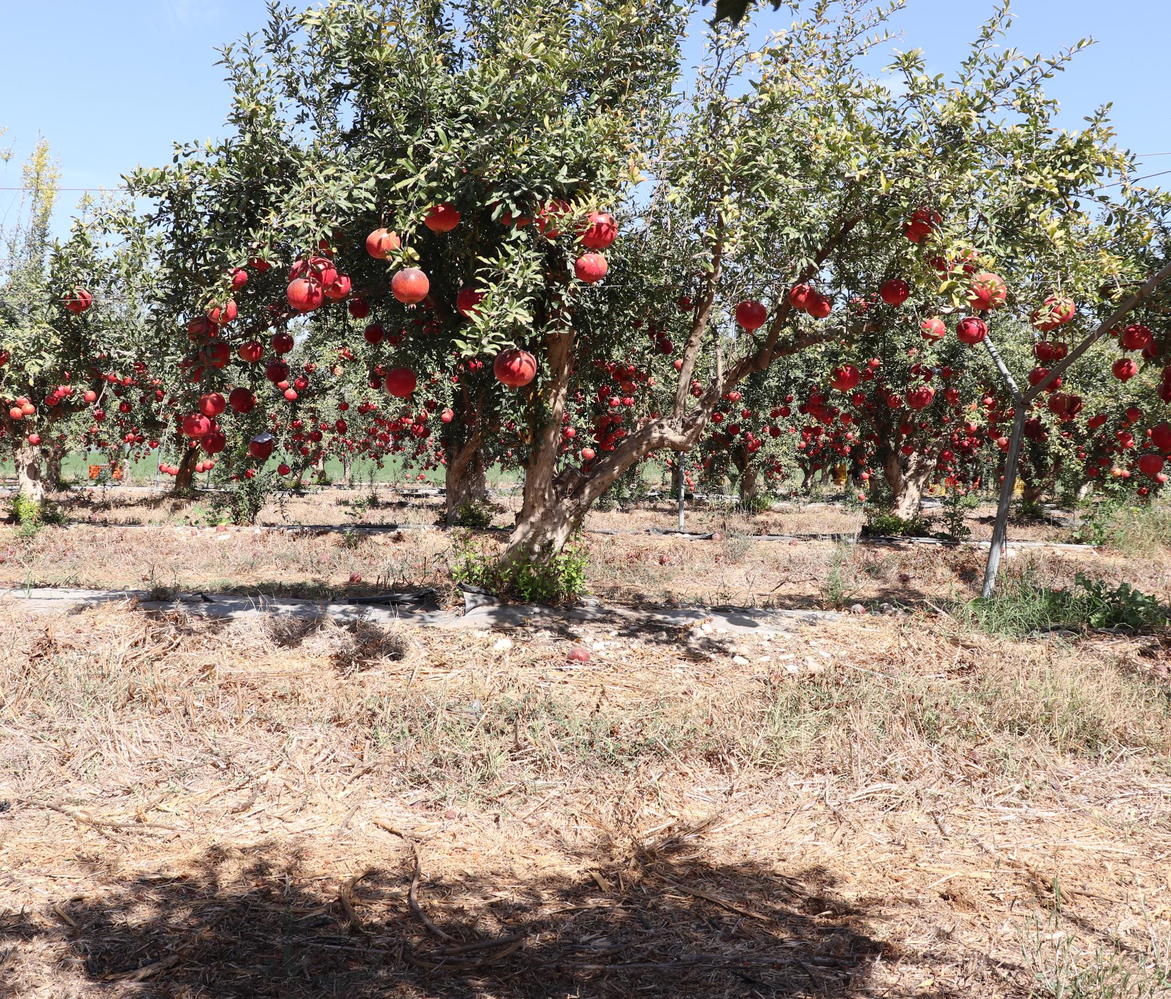pomegranates: (493, 349, 537, 394), (576, 211, 617, 254), (290, 256, 337, 292), (966, 274, 1007, 315), (533, 198, 572, 241), (391, 268, 430, 310), (287, 277, 325, 317), (422, 200, 461, 236), (493, 195, 532, 231), (575, 253, 609, 288), (366, 228, 400, 262), (456, 286, 488, 322), (736, 300, 767, 337), (1043, 295, 1075, 329), (385, 367, 417, 400), (910, 207, 942, 239), (206, 298, 238, 329), (879, 279, 910, 311), (956, 317, 987, 349), (248, 241, 278, 274), (200, 339, 231, 369), (187, 315, 218, 345), (62, 286, 92, 317), (830, 364, 859, 396), (1122, 325, 1154, 353), (788, 283, 816, 313), (925, 250, 953, 280), (953, 248, 984, 275), (198, 393, 226, 421), (324, 274, 351, 303), (1030, 307, 1059, 334), (182, 414, 210, 441), (229, 388, 256, 415), (919, 318, 945, 346), (905, 386, 932, 412), (806, 294, 832, 320), (249, 437, 275, 463), (200, 431, 226, 457), (902, 219, 929, 244), (1111, 359, 1137, 384), (223, 267, 247, 294), (1151, 423, 1171, 453), (315, 231, 338, 257), (1033, 341, 1058, 364), (1139, 455, 1164, 478), (266, 361, 288, 387), (909, 362, 933, 384), (348, 298, 370, 320), (272, 333, 294, 355), (364, 325, 385, 348), (240, 342, 264, 362), (1049, 394, 1070, 416), (1028, 367, 1051, 385), (1066, 395, 1083, 419), (849, 298, 868, 315), (1053, 342, 1068, 361), (466, 358, 483, 374), (294, 378, 308, 391), (905, 347, 921, 358), (562, 427, 576, 439), (278, 465, 291, 477), (581, 448, 594, 460), (869, 357, 881, 369), (285, 390, 297, 402), (729, 391, 741, 403), (305, 363, 316, 374), (278, 381, 288, 390)
